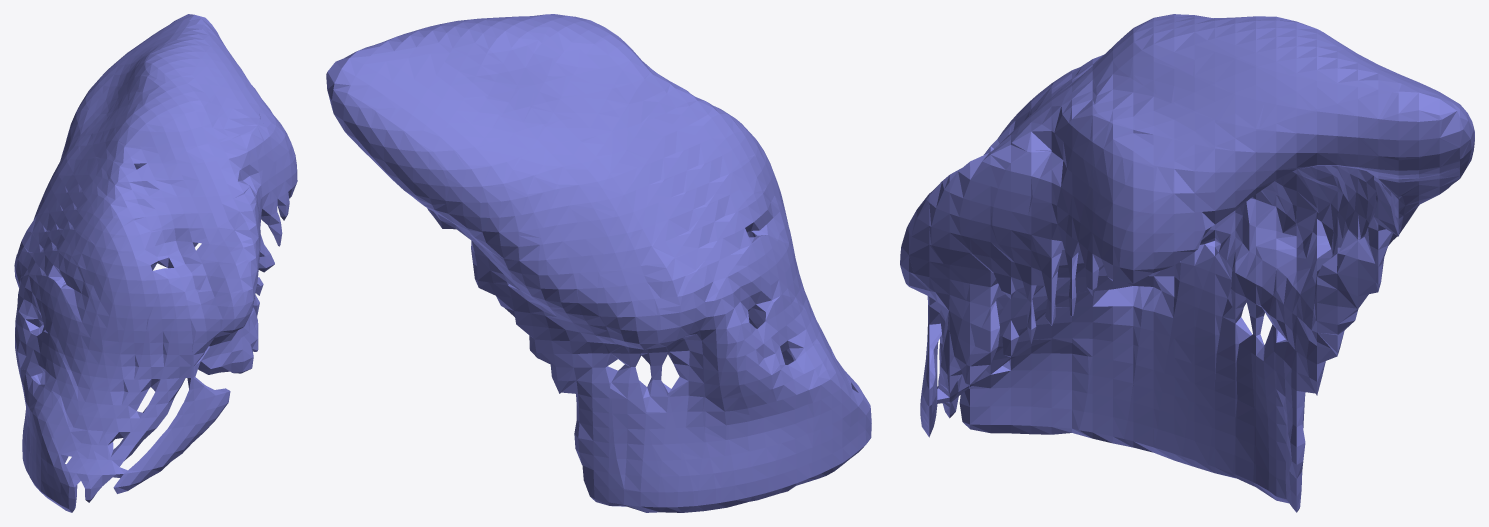
File: Frontallobe.fbx
3 views of the same model, side by side, from view 1: azimuth 30°, elevation 25°; view 2: azimuth 150°, elevation 25°; view 3: azimuth 270°, elevation 25° (orthographic). The views are drawn at different scales.
Visible parts, largest first — view 1: FrontalLobe; view 2: FrontalLobe; view 3: FrontalLobe.
Boxes of the visible parts, x1,y1,x2,y2 form: FrontalLobe: (14,14,297,512); FrontalLobe: (326,14,871,512); FrontalLobe: (900,14,1474,512).
Size of the model in its own units: 85.47 by 100 by 92.67.
